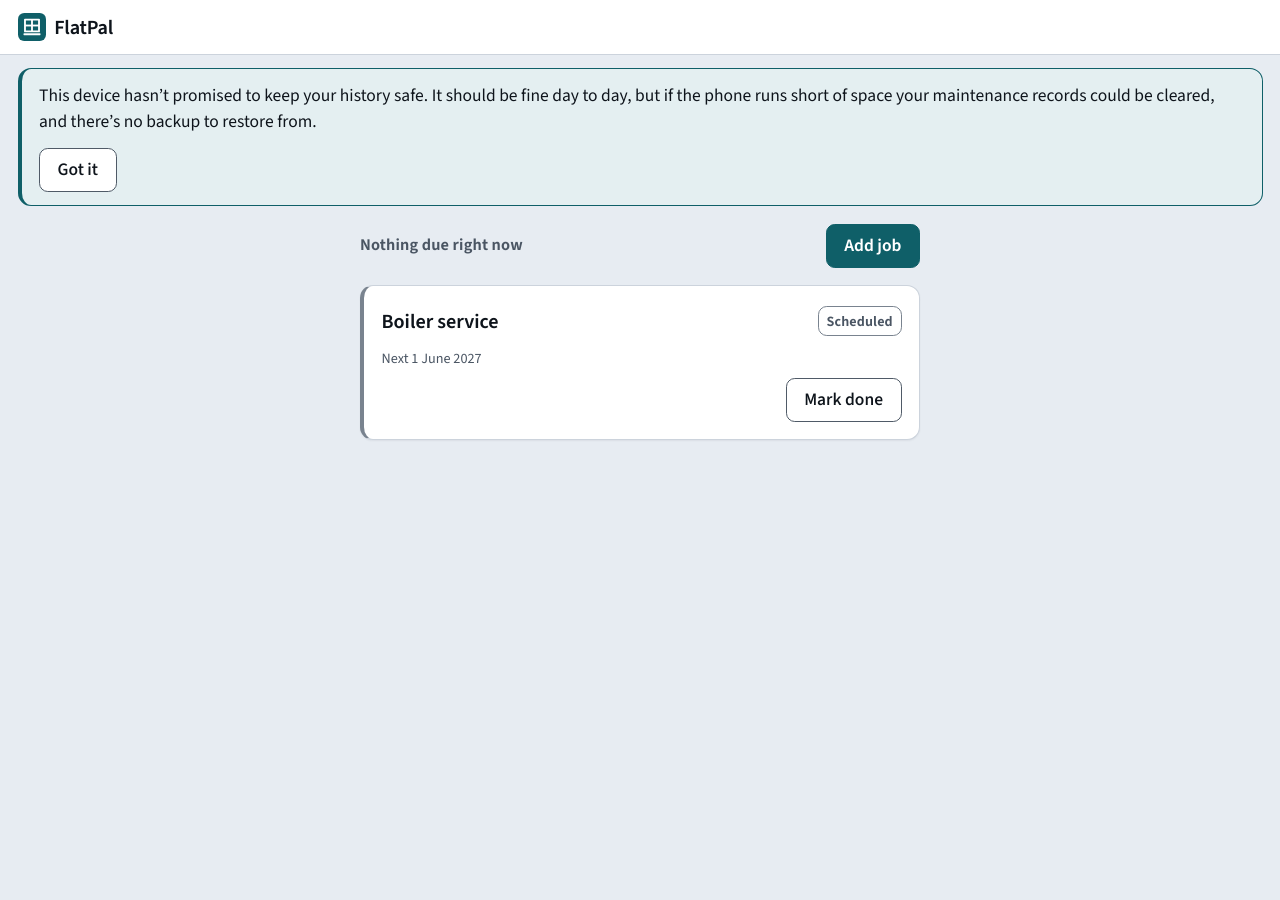
Test case: recording a completion on a past date › tells the user plainly that nothing about the schedule changed
Click the button "Boiler service" at (440, 321), box [382,299,499,343]
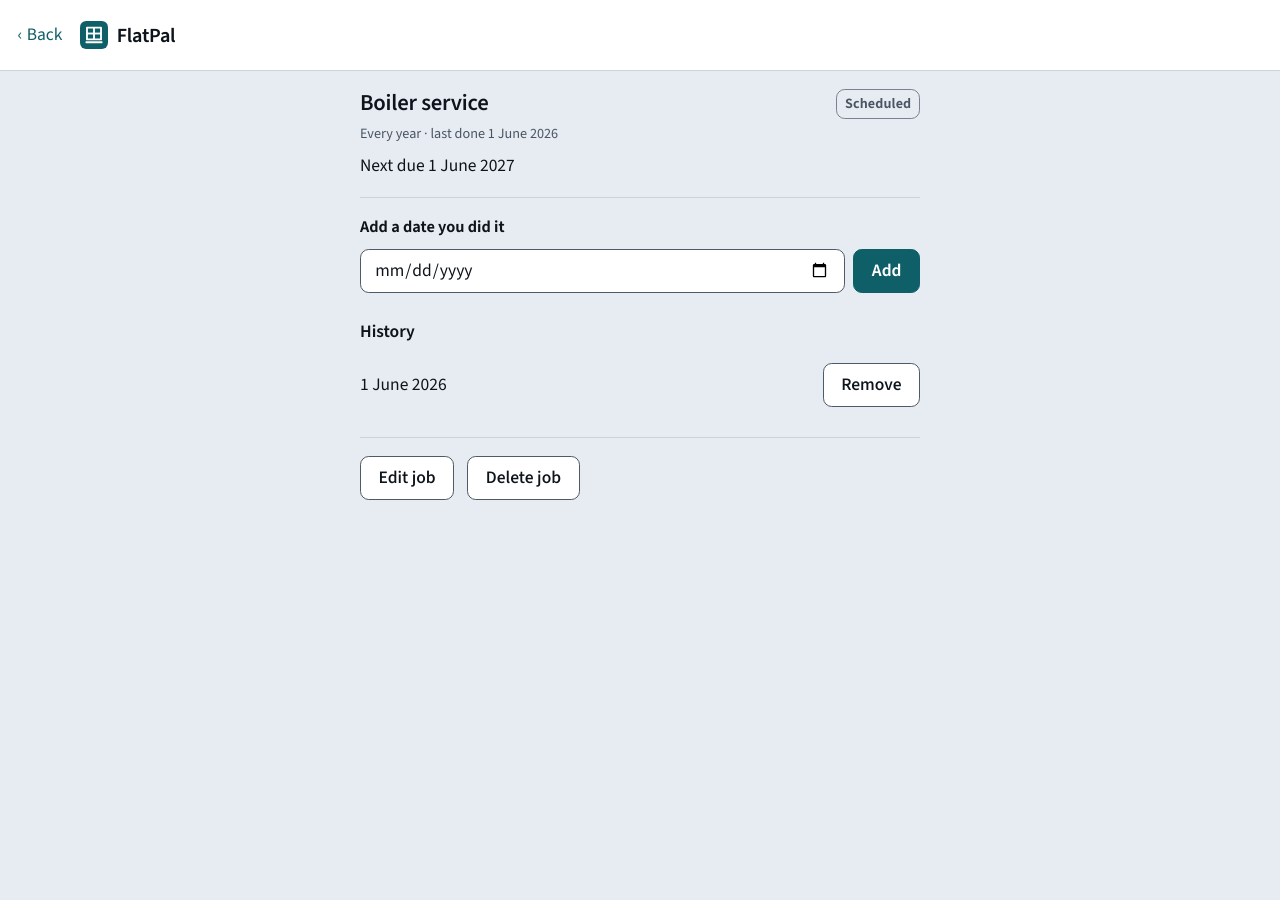
expect the heading "Boiler service" is shown: met, box [360,90,488,118]
Type "2020-01-01" into the date field labelled "Add a date you did it" at (602, 271), box [360,249,845,293]
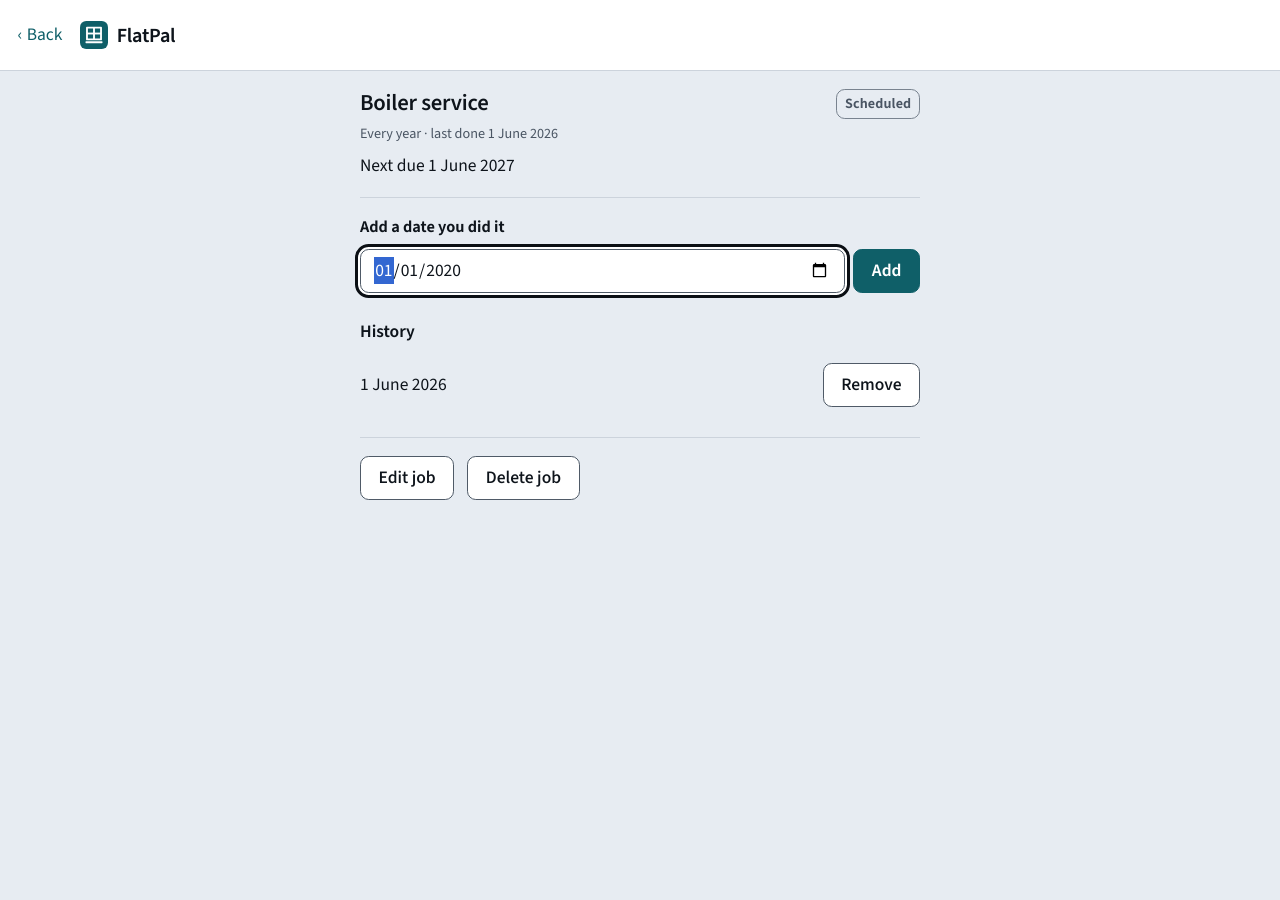
Click the button "Add" at (887, 271), box [853,249,920,293]
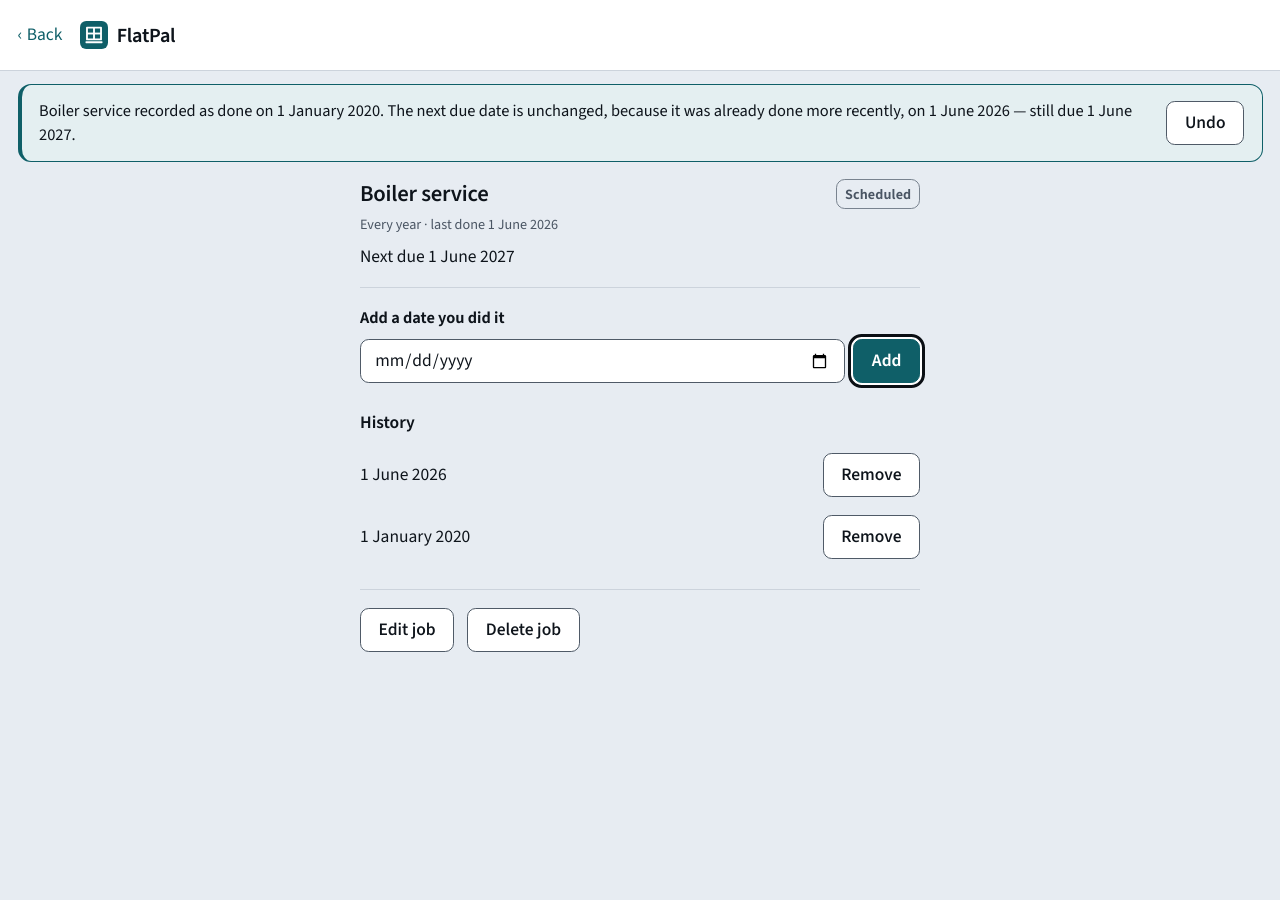
expect the text "next due date is unchanged" shows "1 June 2027": met, box [39,98,1132,147]
